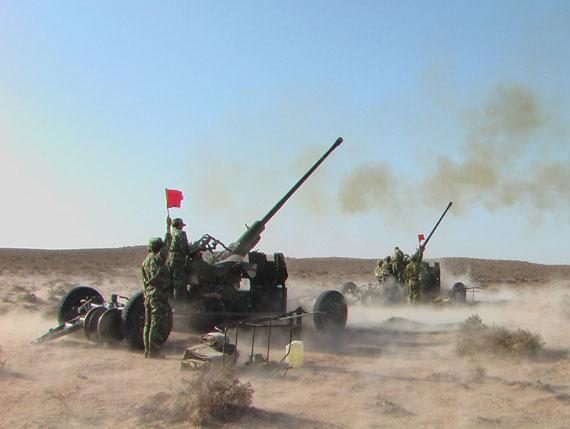MIL_SPG: (157, 138, 342, 343), (38, 286, 145, 349)
